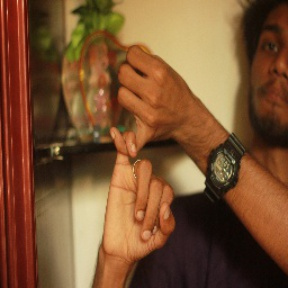S: (97, 43, 193, 260)
